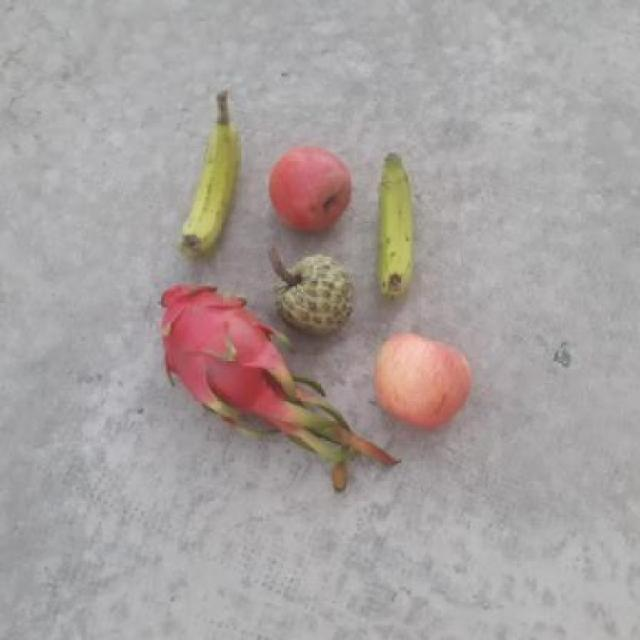apple: (374, 330, 475, 432), (265, 143, 357, 234)
banana: (177, 107, 246, 261), (370, 148, 428, 304)
dragon fruit: (156, 279, 276, 421)
sugar apple: (271, 250, 354, 338)
